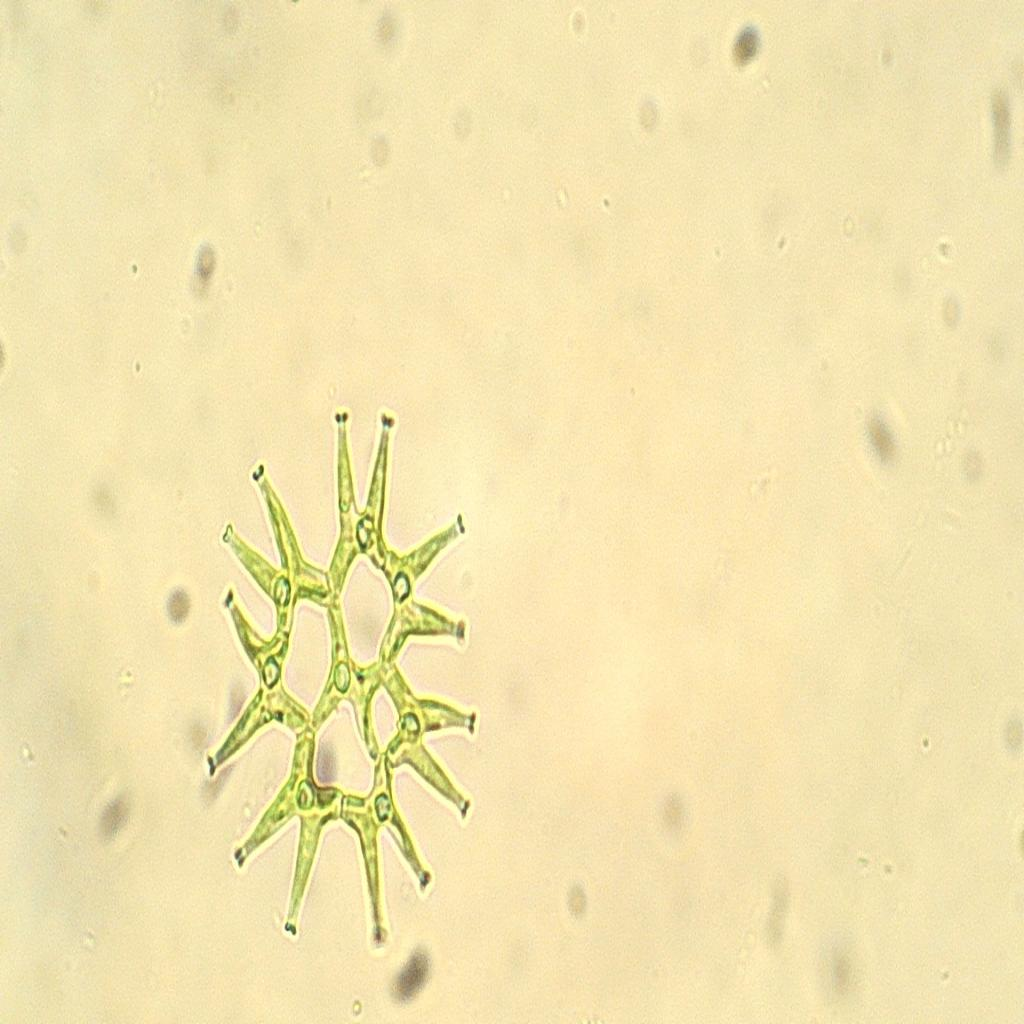Pediastrum_1T: (195, 391, 493, 954)
